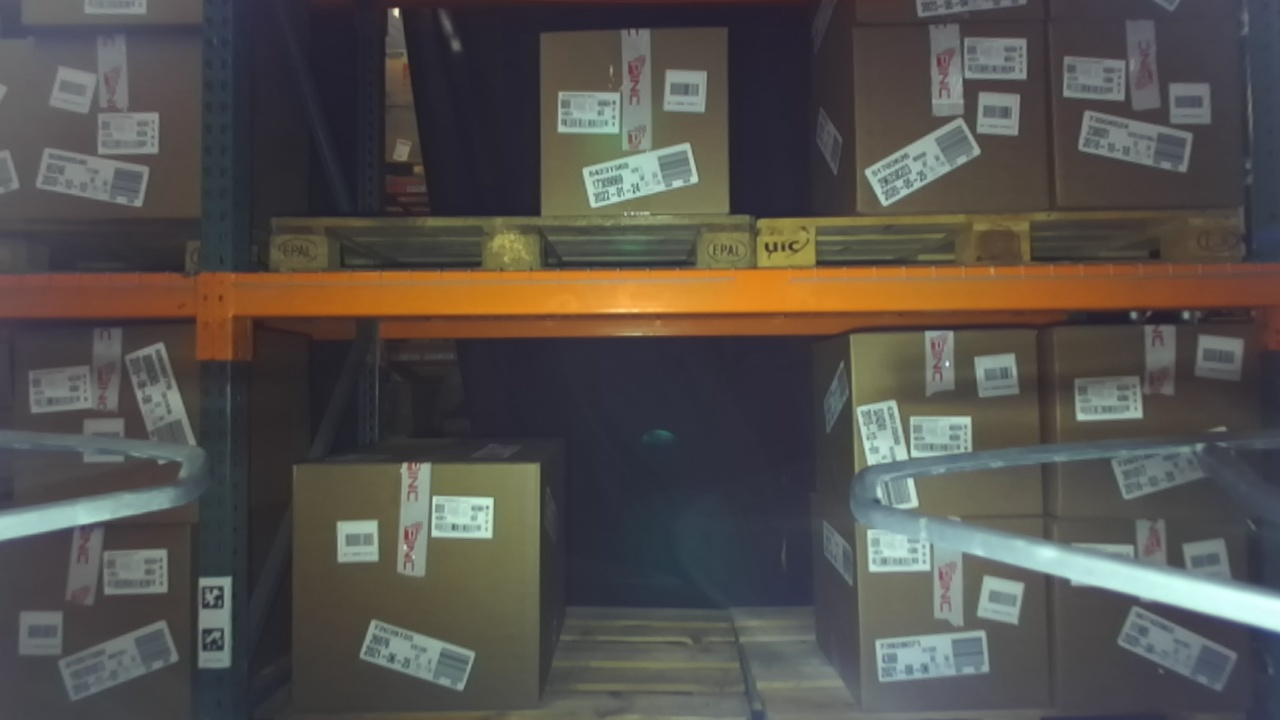box: (274, 442, 568, 720), (1033, 304, 1280, 541), (830, 9, 1074, 237), (1037, 495, 1275, 720), (837, 499, 1075, 720), (825, 315, 1062, 536), (1034, 1, 1264, 228), (1, 17, 227, 241), (518, 11, 750, 226), (2, 505, 220, 720), (1, 310, 214, 506)
